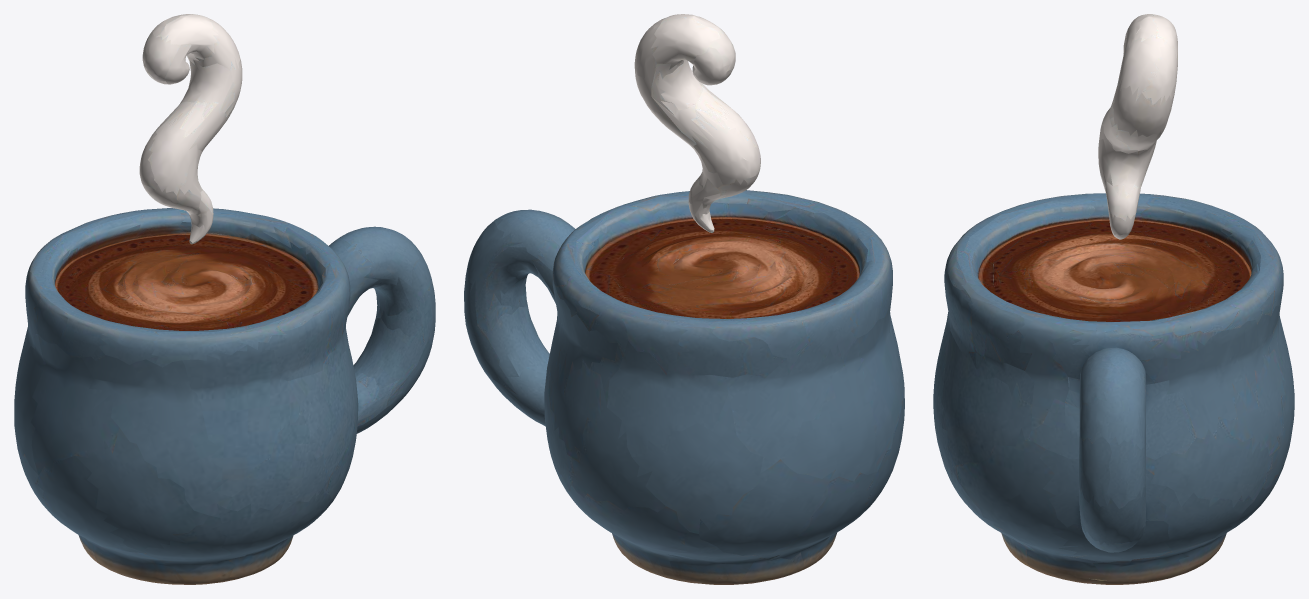
The model's file is props_kuppi.glb.
The picture shows the model from 3 angles, left to right: view 1: azimuth 30°, elevation 25°; view 2: azimuth 150°, elevation 25°; view 3: azimuth 270°, elevation 25°; orthographic projection. The views are drawn at different scales.
Parts seen in each view (by area): view 1: output_unwrapped; view 2: output_unwrapped; view 3: output_unwrapped.
Boxes of the visible parts, x1=… form: output_unwrapped: x1=14, y1=14, x2=435, y2=584; output_unwrapped: x1=464, y1=14, x2=904, y2=584; output_unwrapped: x1=933, y1=14, x2=1294, y2=584.
Bounding box in the file's own units: 0.0564 × 0.07 × 0.0431.
Materials: 1 (1 with a texture image).
